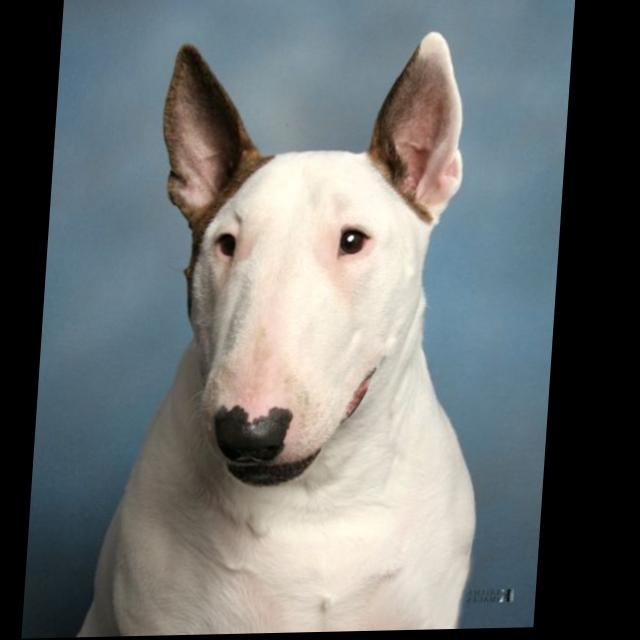bullterrier: (74, 32, 512, 639)
